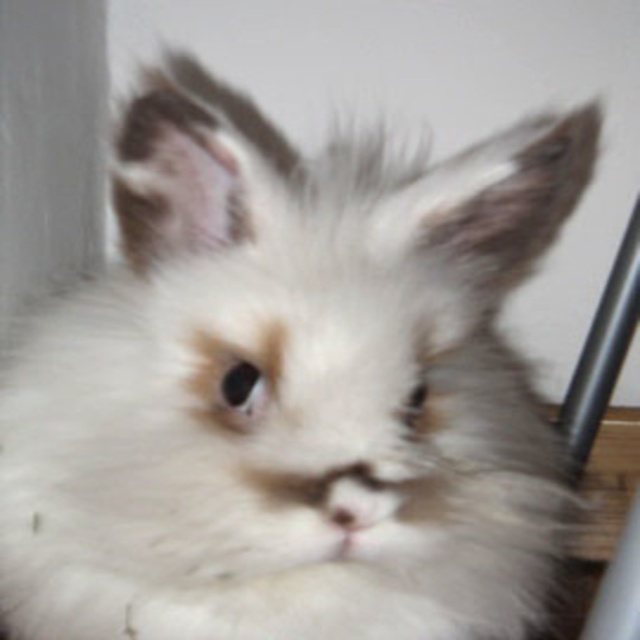Rabbit: (0, 25, 607, 639)
